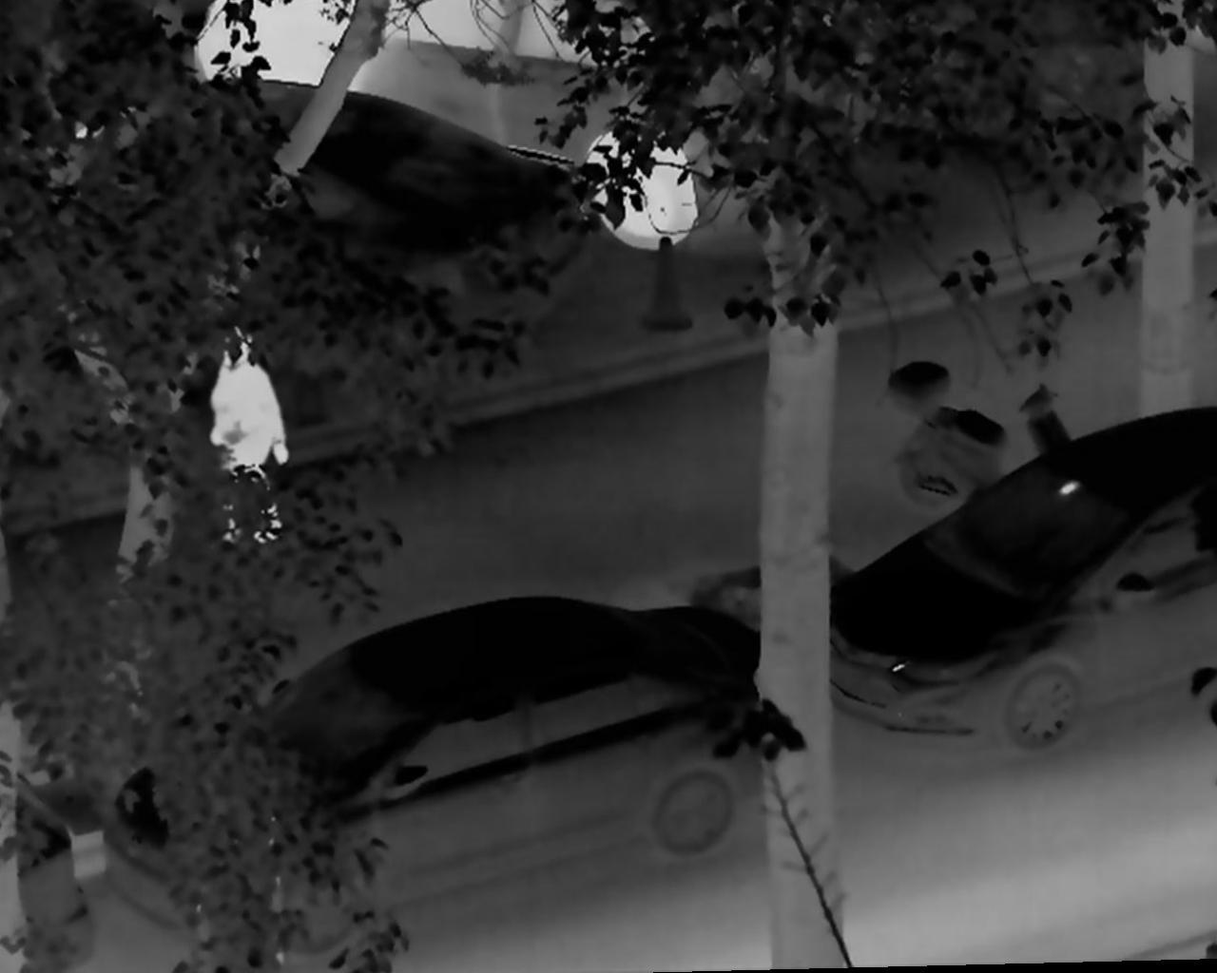person: (205, 326, 292, 555)
